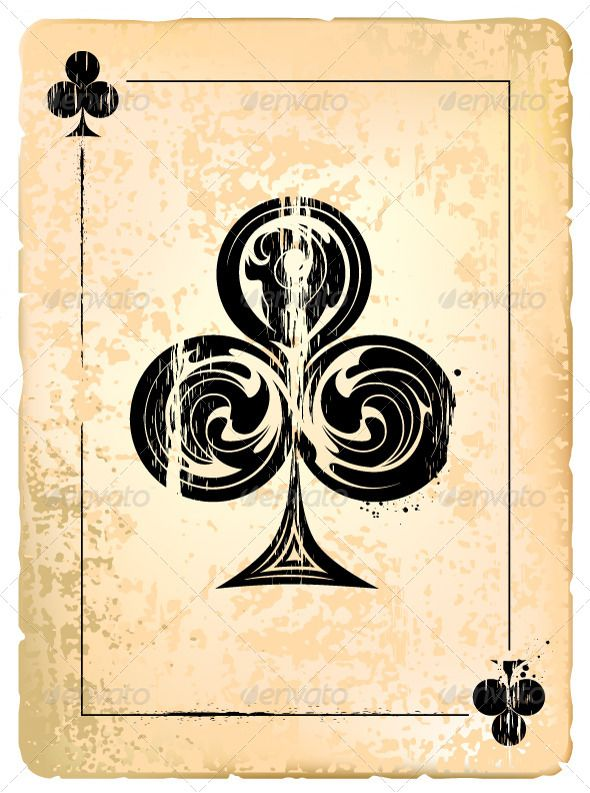ace of clubs: (20, 19, 569, 775)
